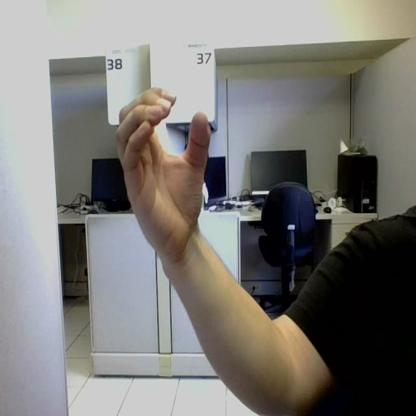C: (116, 88, 210, 256)
